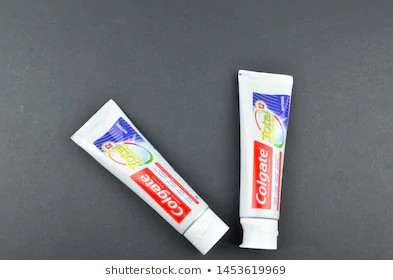colgate-total-150gm: (65, 94, 233, 256), (236, 68, 297, 251)
